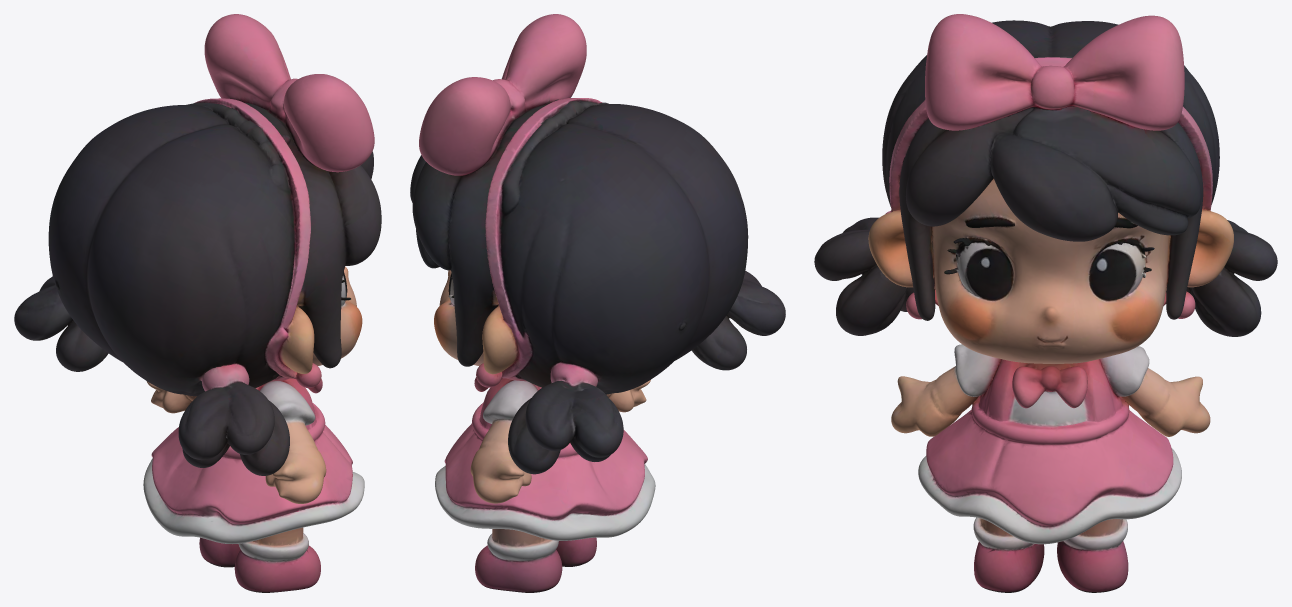
Rendered from character-girl-bow.glb.
The picture shows the model from 3 angles, left to right: view 1: azimuth 30°, elevation 25°; view 2: azimuth 150°, elevation 25°; view 3: azimuth 270°, elevation 25°; orthographic projection. The views are drawn at different scales.
Visible parts, largest first — view 1: tripo_node_03d38d9e-b0d0-4899-b21c-dc53541de383; view 2: tripo_node_03d38d9e-b0d0-4899-b21c-dc53541de383; view 3: tripo_node_03d38d9e-b0d0-4899-b21c-dc53541de383.
Boxes of the visible parts, x1=… form: tripo_node_03d38d9e-b0d0-4899-b21c-dc53541de383: x1=14, y1=14, x2=381, y2=592; tripo_node_03d38d9e-b0d0-4899-b21c-dc53541de383: x1=410, y1=14, x2=785, y2=592; tripo_node_03d38d9e-b0d0-4899-b21c-dc53541de383: x1=814, y1=14, x2=1277, y2=592.
Bounding box in the file's own units: 0.5881 × 0.9999 × 0.7347.
1 material, 1 textured.
